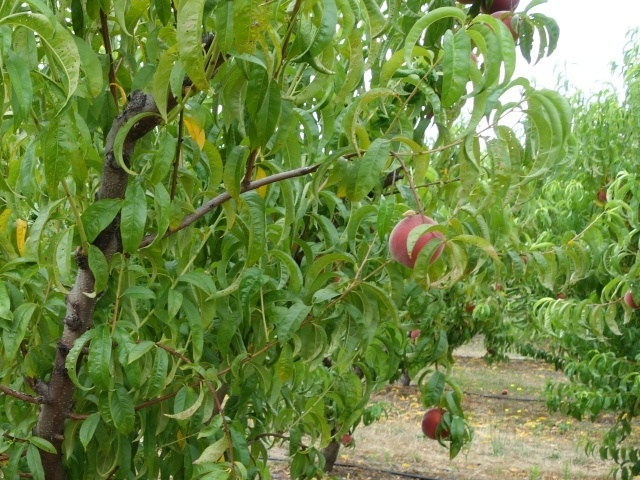peach: (385, 208, 448, 272), (487, 6, 527, 45), (418, 405, 456, 445), (621, 287, 638, 310)
